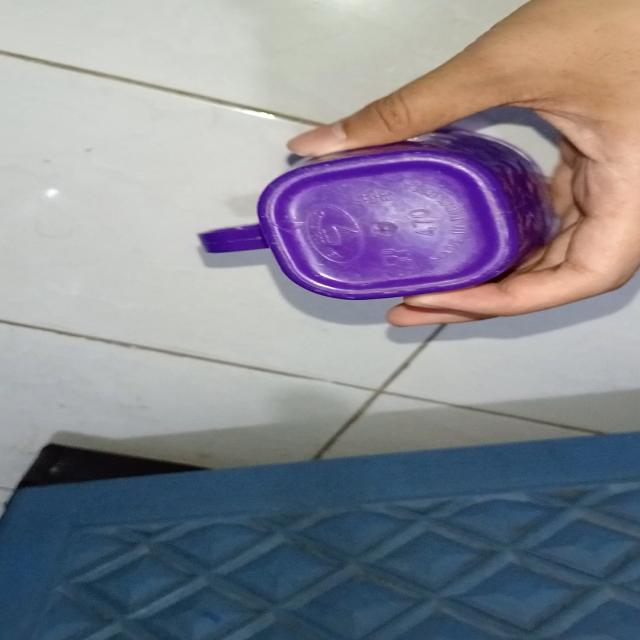gelas bekas: (198, 129, 561, 303)
